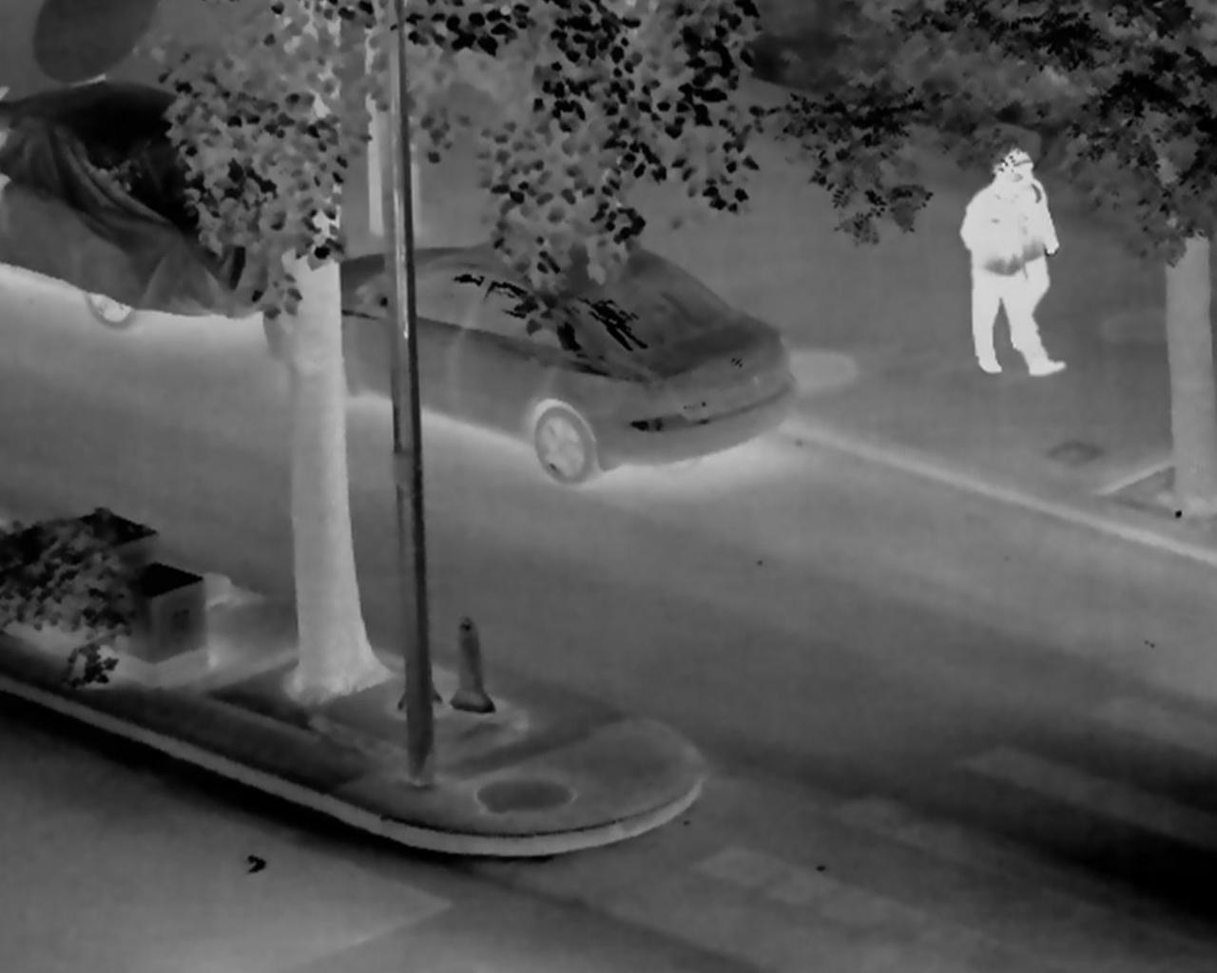person: (959, 159, 1069, 378), (991, 148, 1060, 348)
